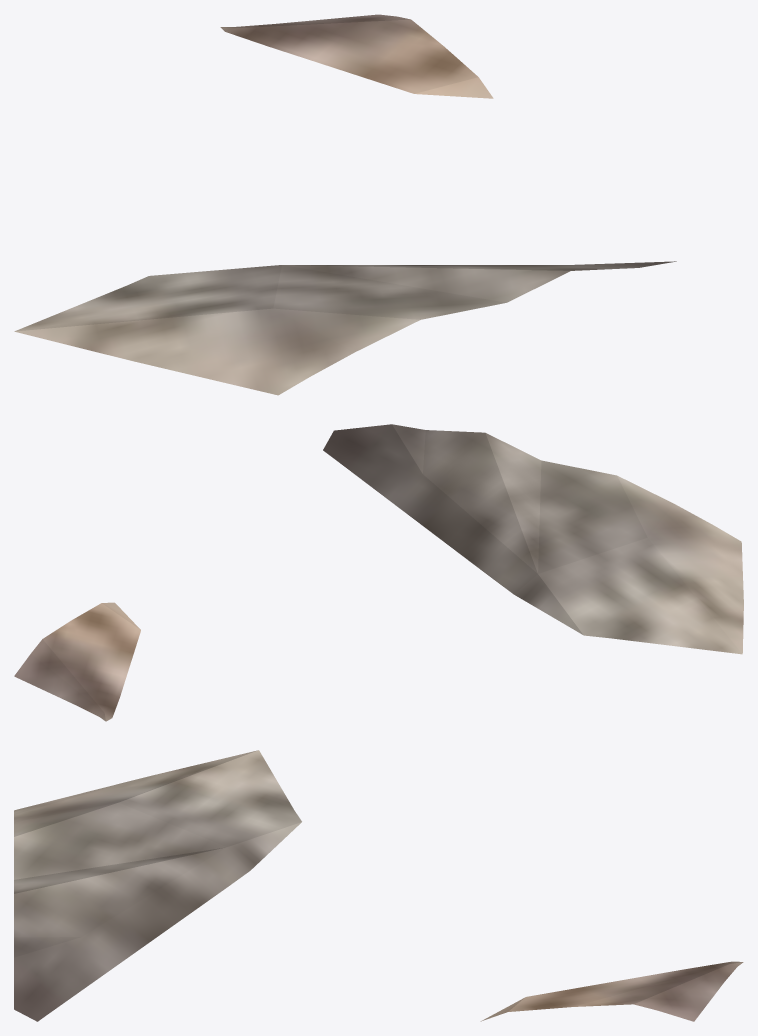
3 renders of one model, top to bottom at view 1: azimuth 30°, elevation 25°; view 2: azimuth 150°, elevation 25°; view 3: azimuth 270°, elevation 25°, orthographic. The views are drawn at different scales.
Bounding box in the file's own units: 0.2071 × 0.0176 × 0.2351.
Materials: 1 (1 with a texture image).
